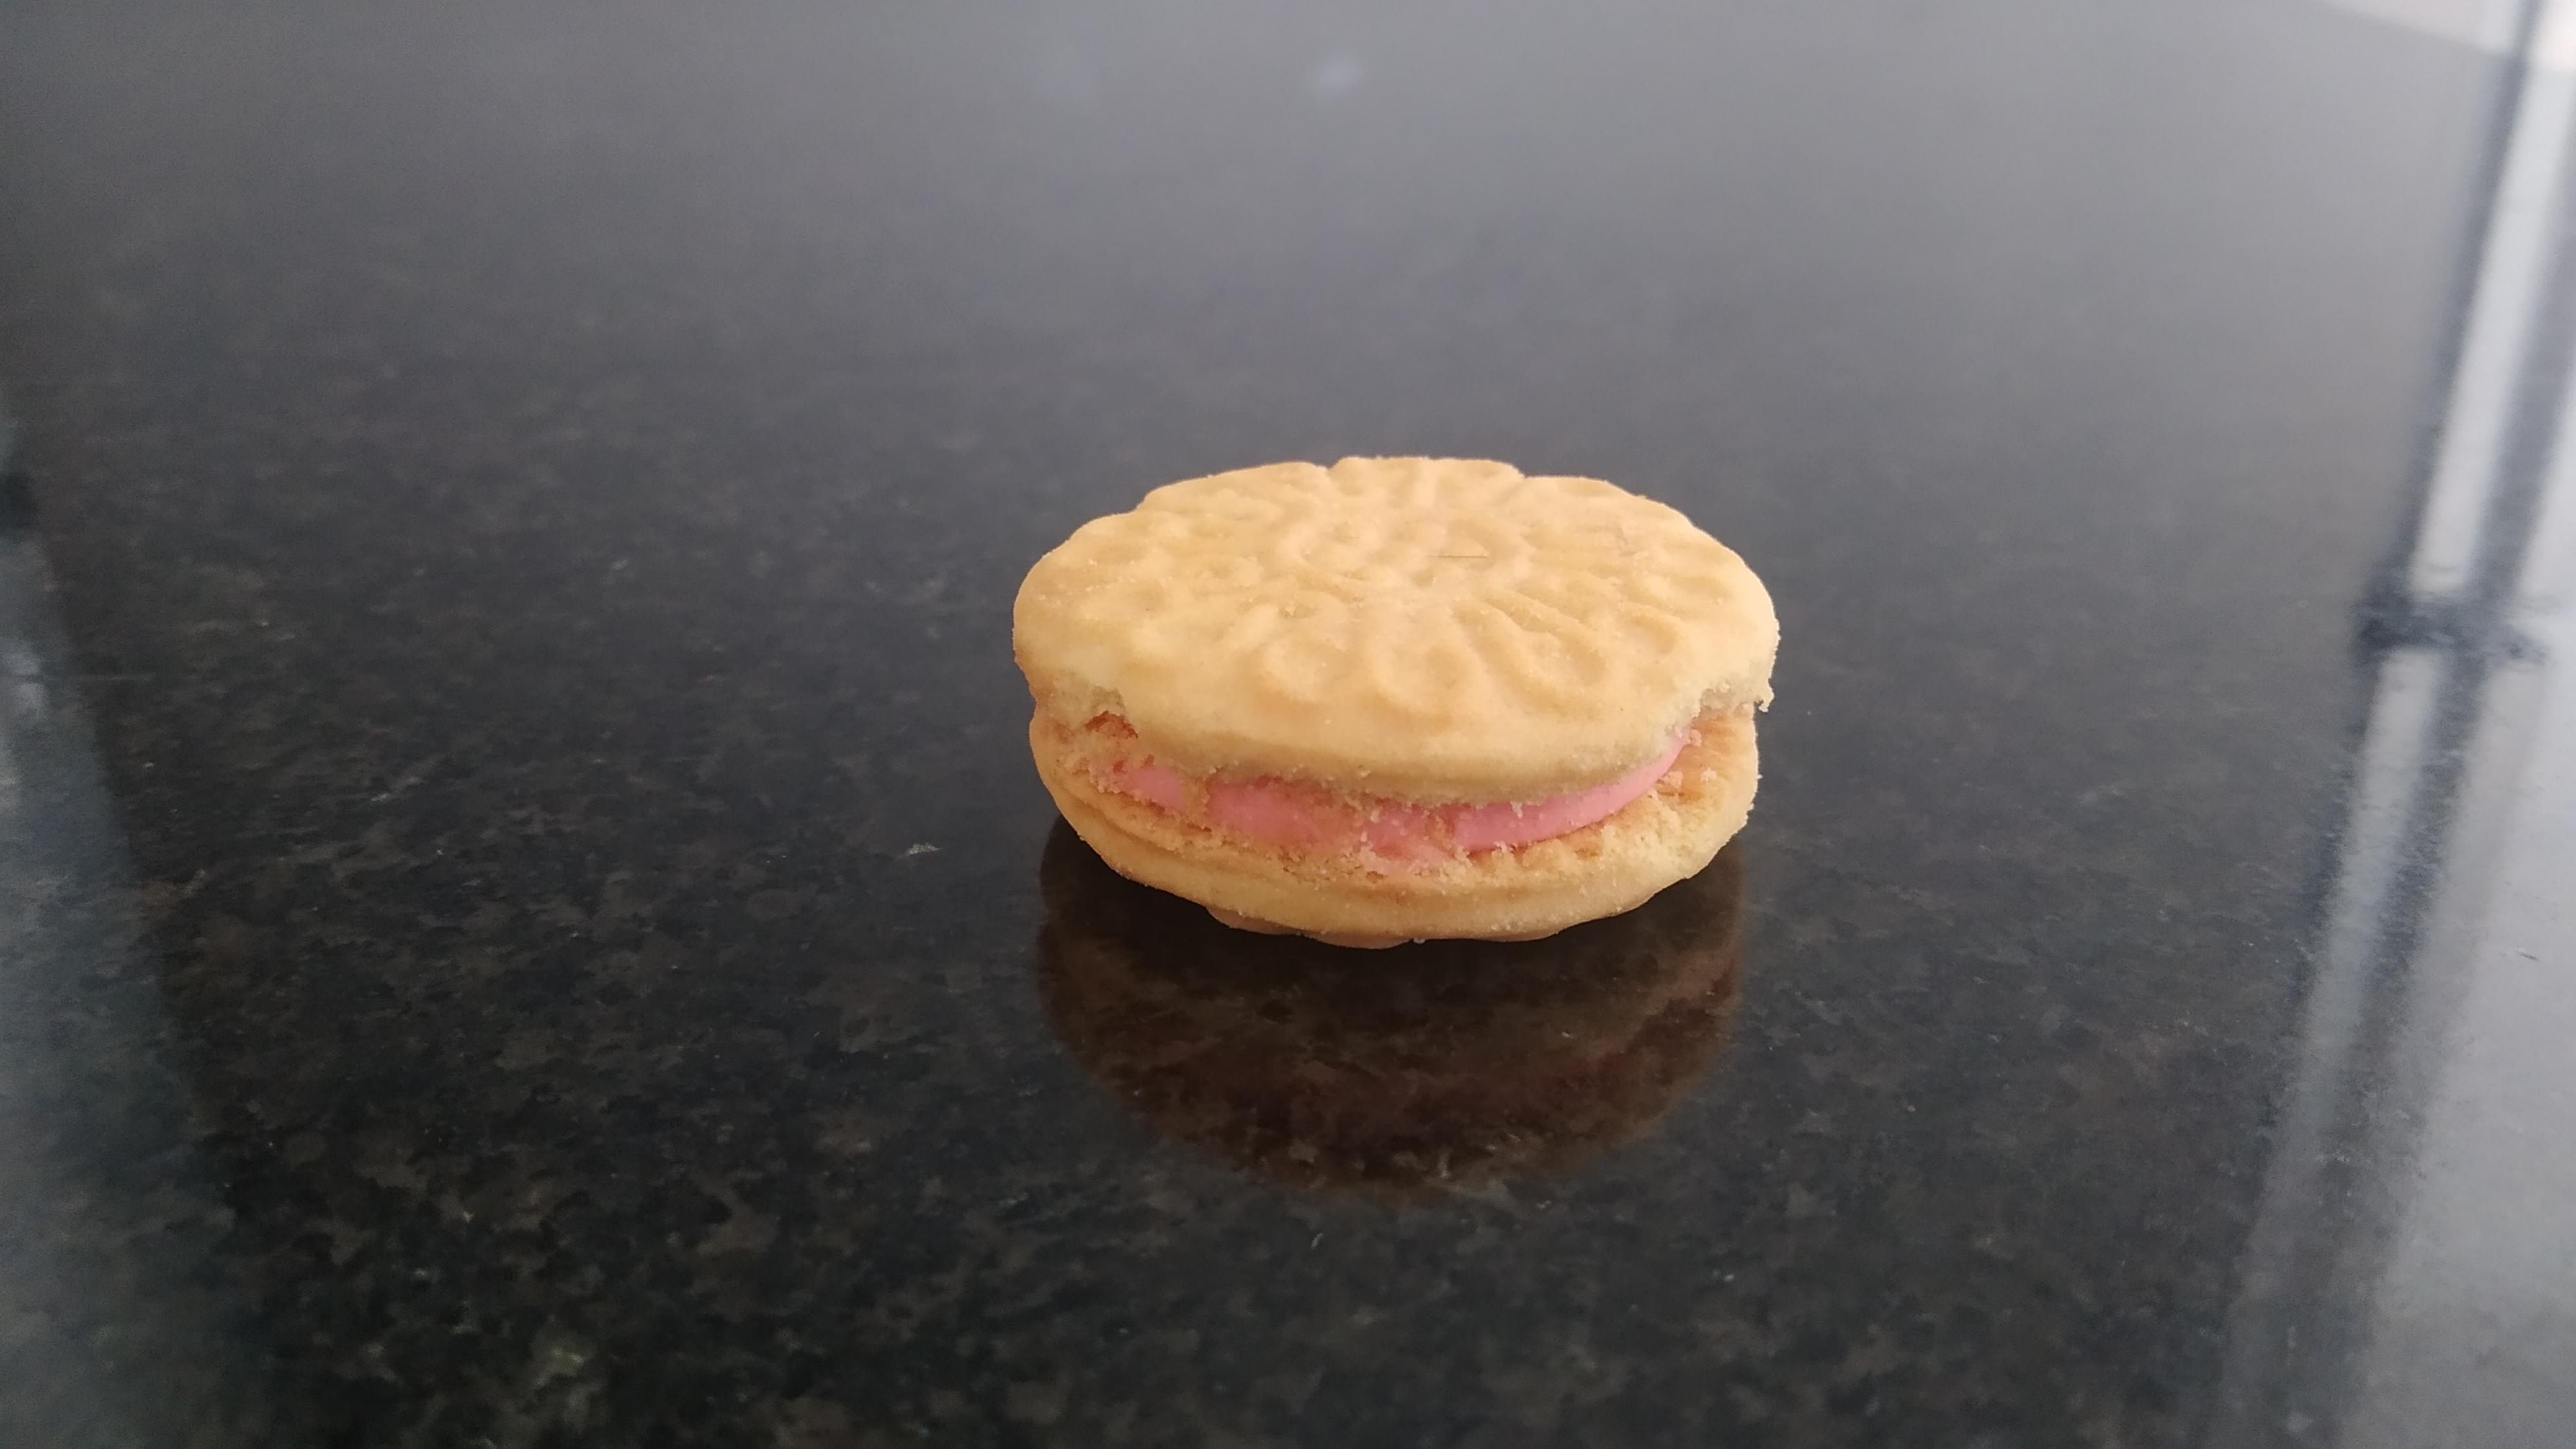lulu: (1014, 455, 1780, 952)
